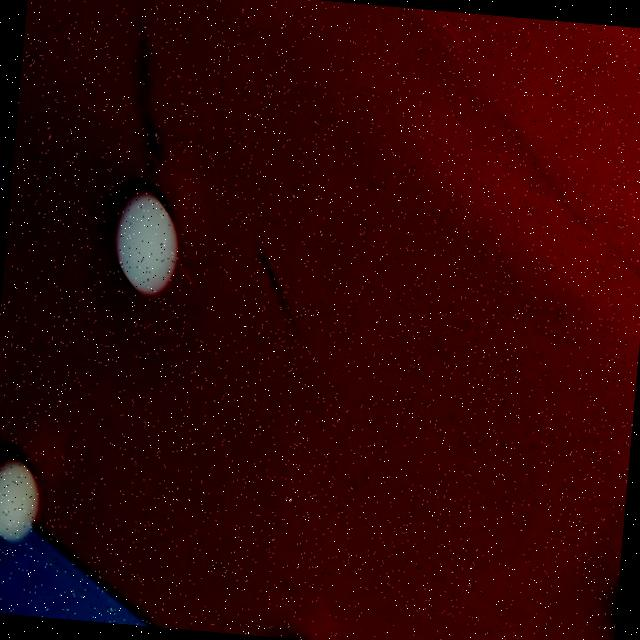ping-pong-ball: (0, 448, 48, 546)
